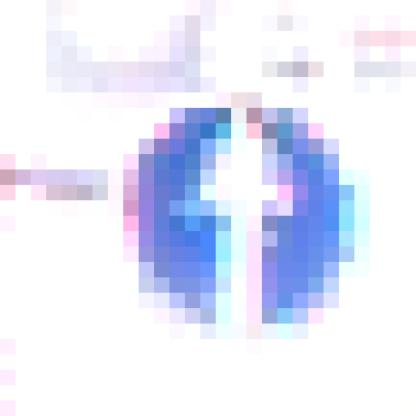AheadOnly: (93, 93, 340, 340)
